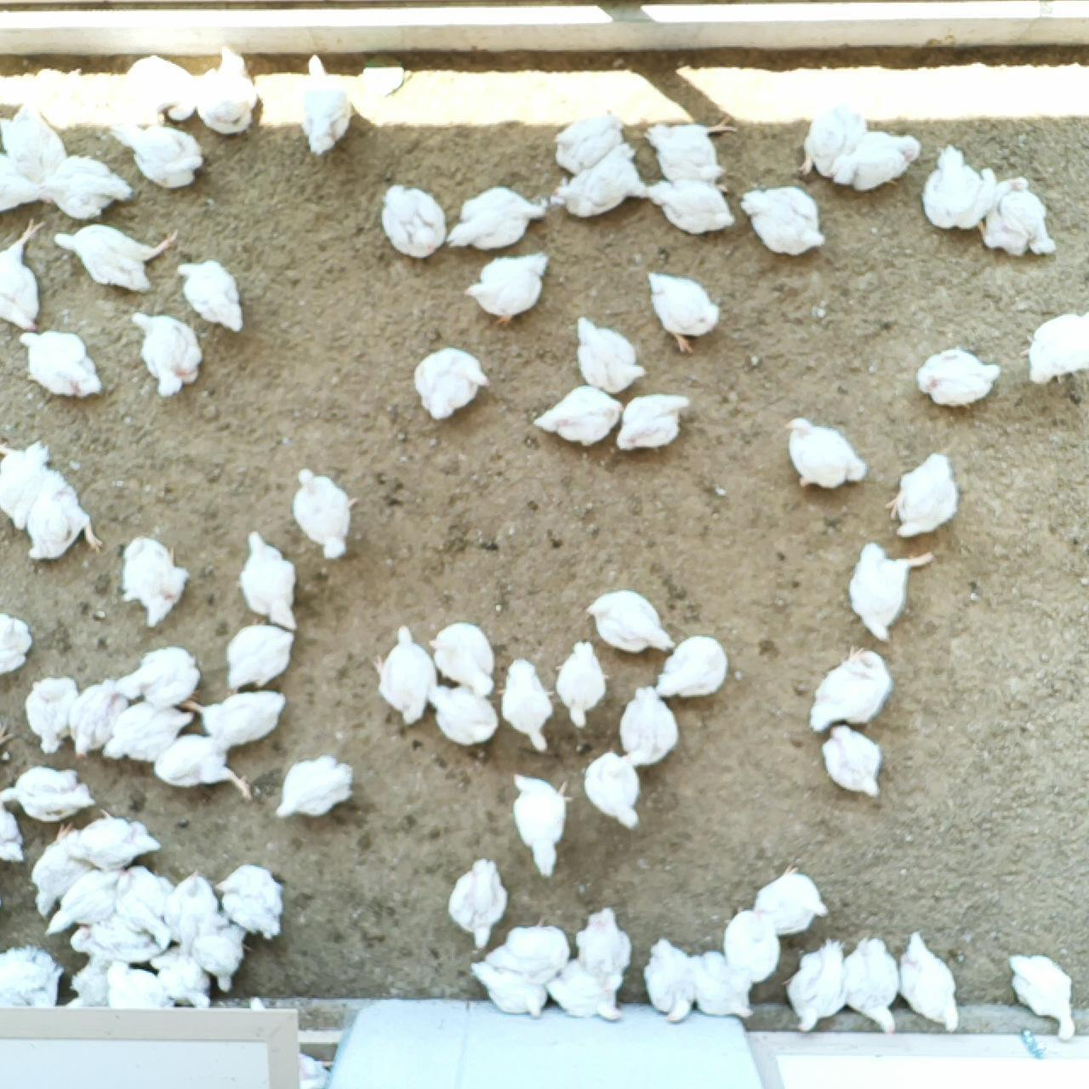chicken: (850, 545, 935, 644), (50, 227, 174, 291), (151, 733, 256, 803), (1001, 951, 1077, 1044), (230, 533, 302, 631), (639, 118, 733, 189), (18, 488, 108, 562), (647, 266, 724, 350), (812, 651, 898, 726), (448, 187, 547, 252), (921, 139, 991, 230), (288, 470, 357, 562), (898, 933, 963, 1030), (132, 309, 203, 397), (977, 178, 1058, 255), (781, 416, 864, 490), (20, 324, 99, 401), (569, 312, 645, 392), (550, 149, 642, 215), (121, 527, 180, 629), (189, 47, 259, 132), (887, 452, 955, 539), (738, 189, 827, 255), (187, 692, 286, 751), (449, 858, 511, 952), (373, 629, 435, 723), (465, 254, 550, 322), (27, 836, 100, 915), (842, 938, 901, 1035), (822, 134, 921, 191), (115, 124, 206, 186), (789, 938, 849, 1031), (21, 675, 89, 757), (585, 592, 676, 653), (172, 259, 244, 334), (513, 773, 565, 876), (215, 864, 285, 940), (746, 870, 830, 933), (43, 877, 123, 943), (270, 754, 355, 816), (295, 58, 350, 152), (1, 436, 54, 533), (103, 710, 193, 767), (431, 622, 499, 697), (412, 347, 481, 420), (1, 767, 94, 821), (383, 180, 444, 261), (502, 662, 554, 757), (533, 388, 619, 445), (472, 955, 548, 1019), (116, 644, 201, 701), (45, 156, 131, 212), (918, 347, 1001, 405), (573, 908, 633, 988), (821, 726, 885, 801), (582, 751, 641, 830), (647, 180, 733, 234), (613, 389, 689, 450), (1027, 309, 1089, 383), (225, 624, 293, 691), (553, 111, 633, 167), (122, 60, 193, 123), (693, 949, 755, 1021), (425, 684, 498, 745), (195, 910, 247, 994), (795, 110, 860, 177), (557, 641, 607, 728), (548, 962, 624, 1019), (487, 925, 569, 977), (1, 215, 37, 331), (119, 873, 178, 942), (661, 635, 727, 696), (646, 939, 694, 1022), (71, 678, 119, 761), (60, 946, 126, 1005), (5, 108, 66, 171), (727, 910, 781, 981), (71, 817, 157, 861), (1, 945, 59, 1006), (171, 871, 213, 949), (1, 159, 39, 218), (111, 967, 163, 1009), (1, 615, 31, 678), (1, 803, 23, 866)
